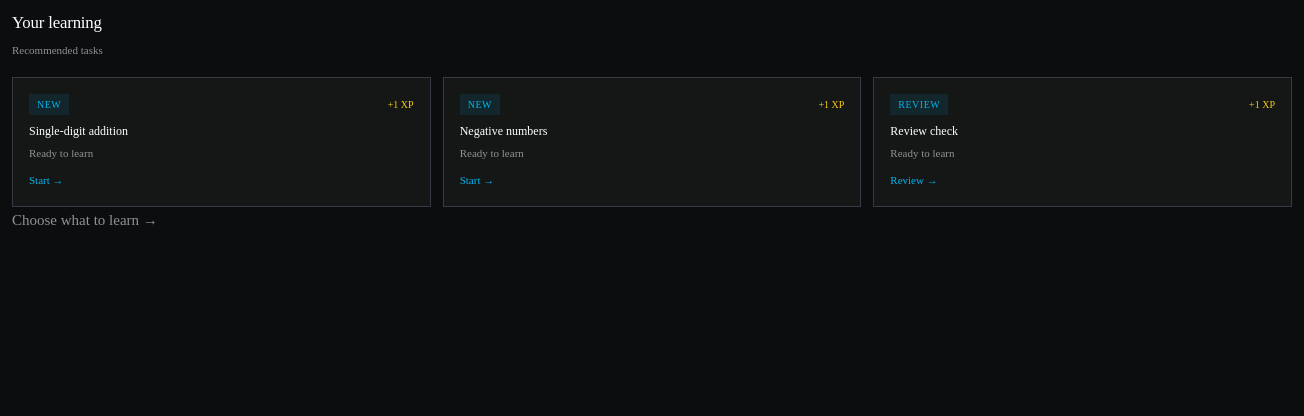
Test case: RecommendedTaskList › explains a locked topic instead of starting it
Click the button "Single-digit addition". click: click(49, 104)
box: [12,77,431,207]
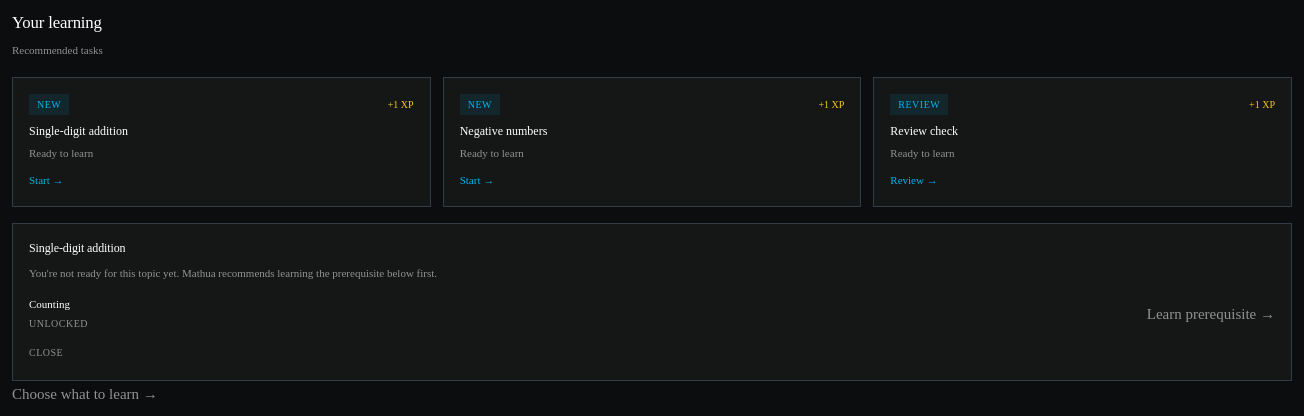
Expected: the element named "prerequisite" is shown, [12,223,1292,381]
Expected: the text "Counting" is shown, [29,298,70,310]
